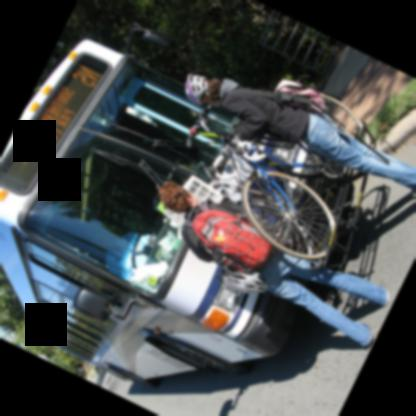backpack: (180, 199, 272, 270), (273, 78, 343, 112)
handbag: (222, 79, 345, 126)
